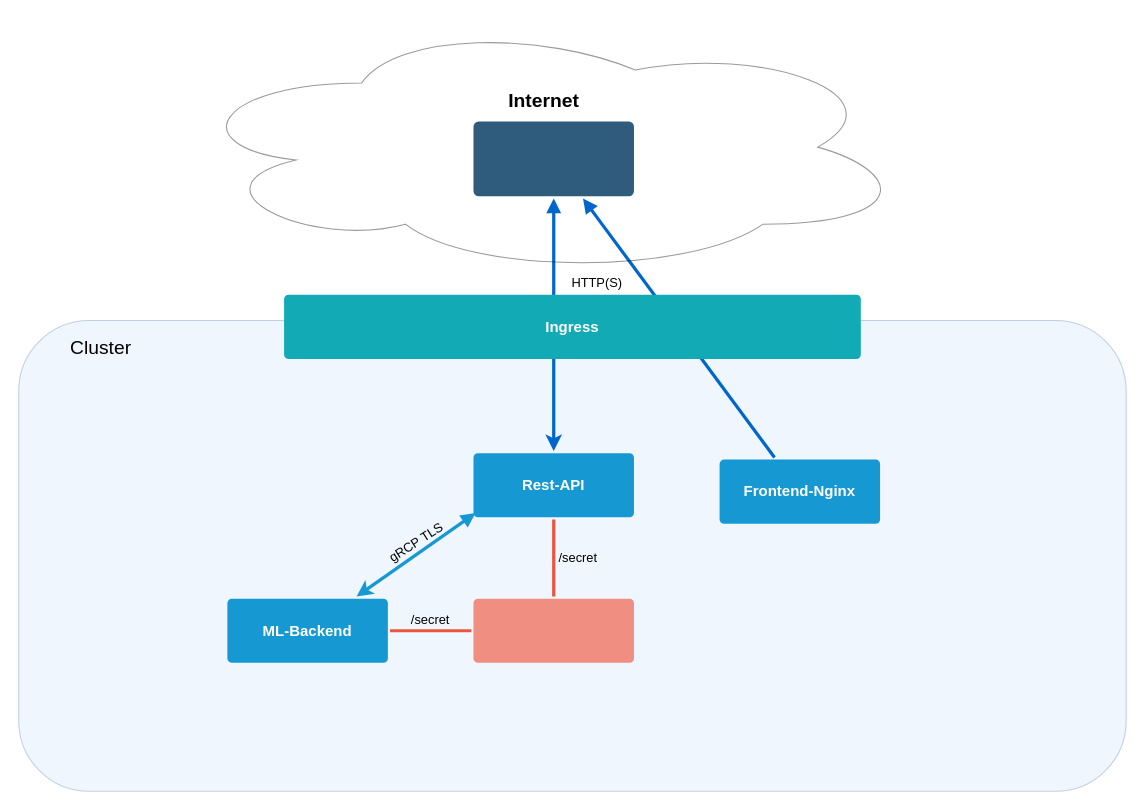
Image size: 1145x810. Some labels were removed from this diagram. Each missing label, with the centre of its shape:
"Frontend" goes at pixel 553 158.
"gRCP ML Certificate Secret" goes at pixel 553 630.
